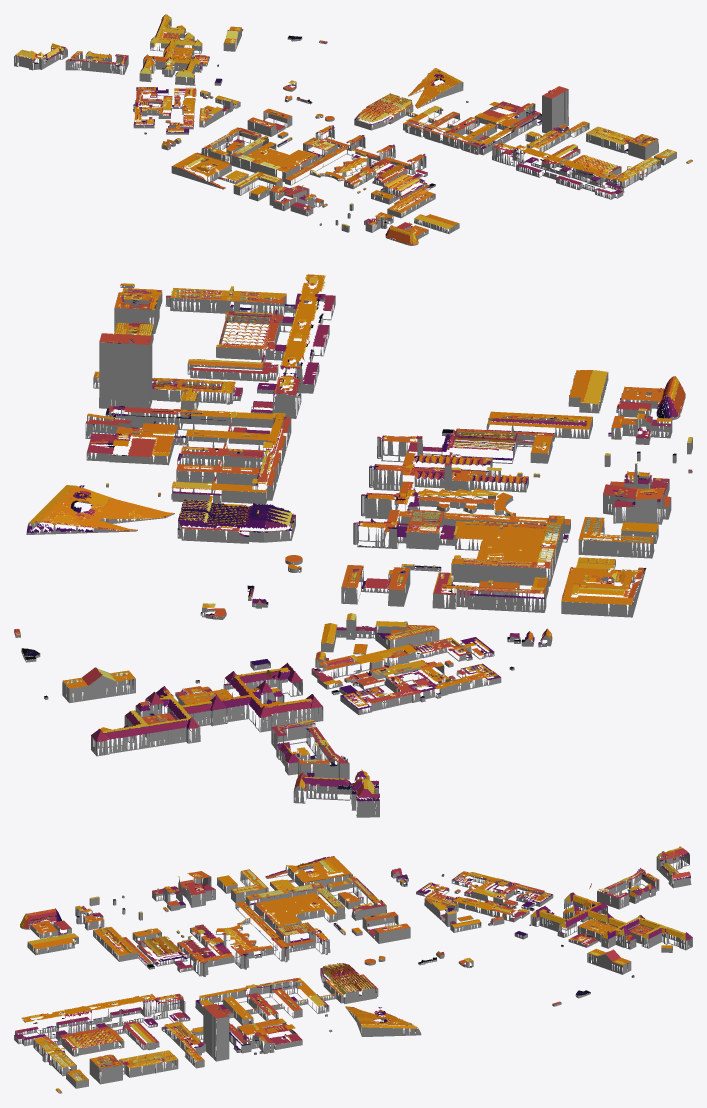
The model's file is campus_85000_446000.glb.
3 renders of one model, top to bottom at view 1: azimuth 30°, elevation 25°; view 2: azimuth 150°, elevation 25°; view 3: azimuth 270°, elevation 25°, orthographic. The views are drawn at different scales.
Size of the model in its own units: 827 by 74.31 by 1015.
